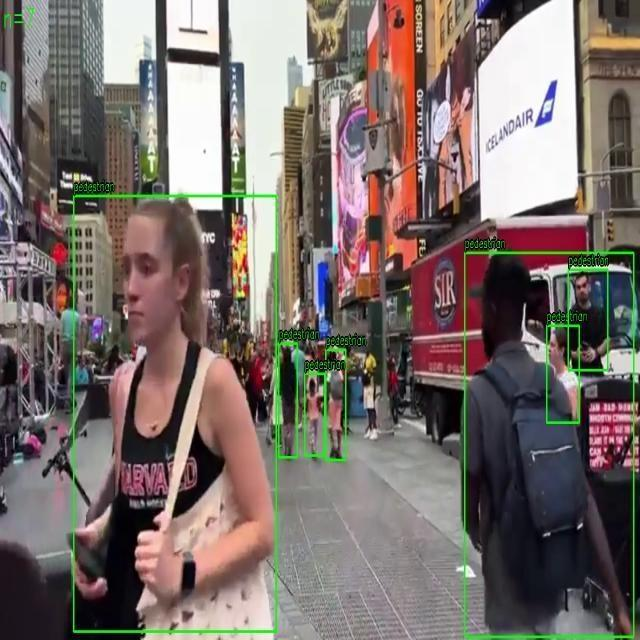person: (74, 195, 276, 632), (464, 252, 634, 638), (568, 269, 608, 371), (546, 325, 580, 423), (278, 343, 298, 458), (326, 350, 346, 460), (304, 373, 326, 456)
